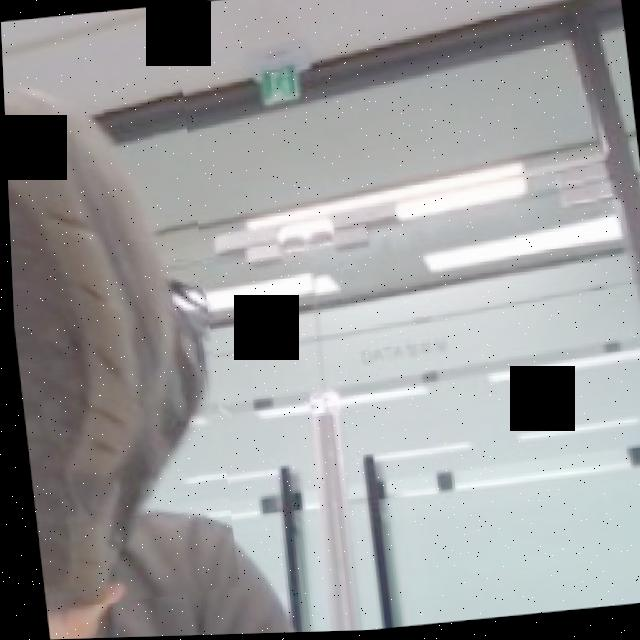shoe: (3, 70, 234, 610)
